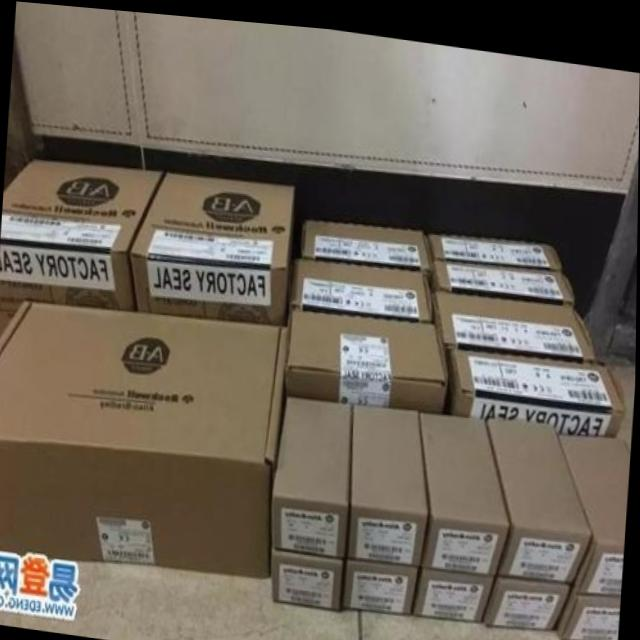box: (0, 298, 290, 572), (0, 158, 162, 316), (132, 168, 296, 319), (488, 413, 597, 577), (285, 303, 449, 407), (443, 343, 626, 426), (421, 407, 512, 569), (274, 390, 356, 552), (349, 399, 432, 558), (559, 425, 632, 586), (433, 283, 597, 348), (291, 249, 435, 315), (301, 214, 435, 263), (432, 256, 575, 295), (486, 566, 573, 628), (412, 558, 493, 615), (342, 550, 424, 606), (274, 540, 345, 603), (428, 227, 560, 260), (560, 580, 622, 633)
